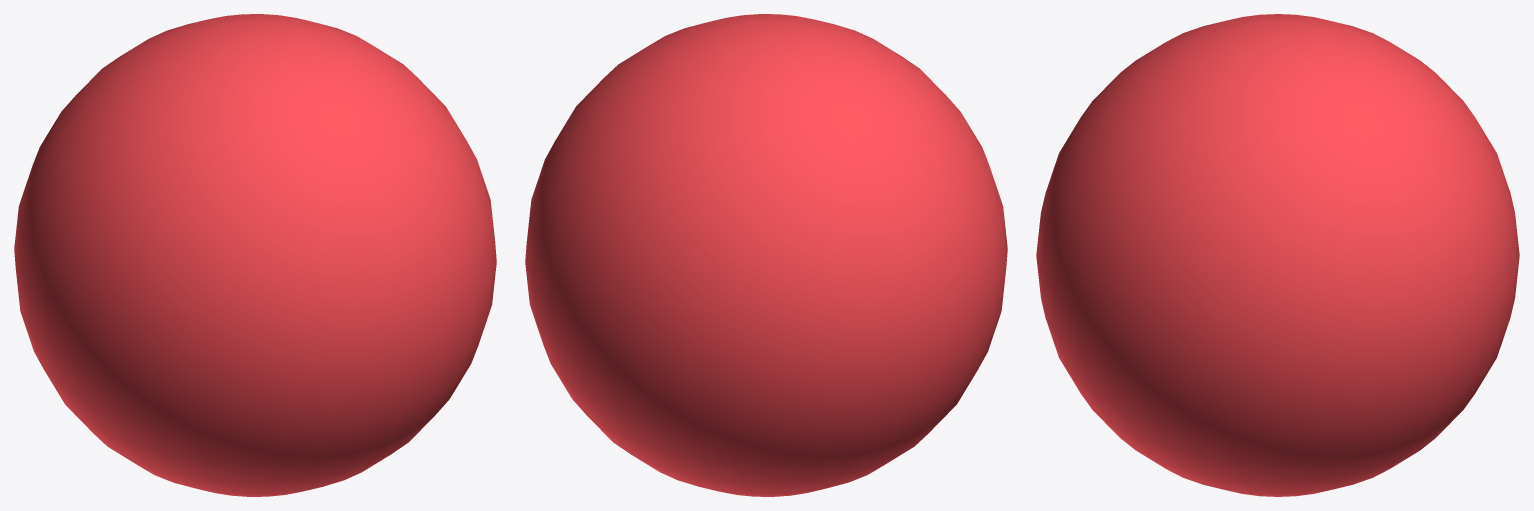
The model's file is Hydro.glb.
3 renders of one model, left to right at view 1: azimuth 30°, elevation 25°; view 2: azimuth 150°, elevation 25°; view 3: azimuth 270°, elevation 25°, orthographic.
Parts seen in each view (by area): view 1: Sphere; view 2: Sphere; view 3: Sphere.
Part boxes in pixels (<box>): Sphere: <box>14,14,496,496</box>; Sphere: <box>525,14,1007,496</box>; Sphere: <box>1036,14,1519,496</box>.
Size of the model in its own units: 2 by 2 by 2.
